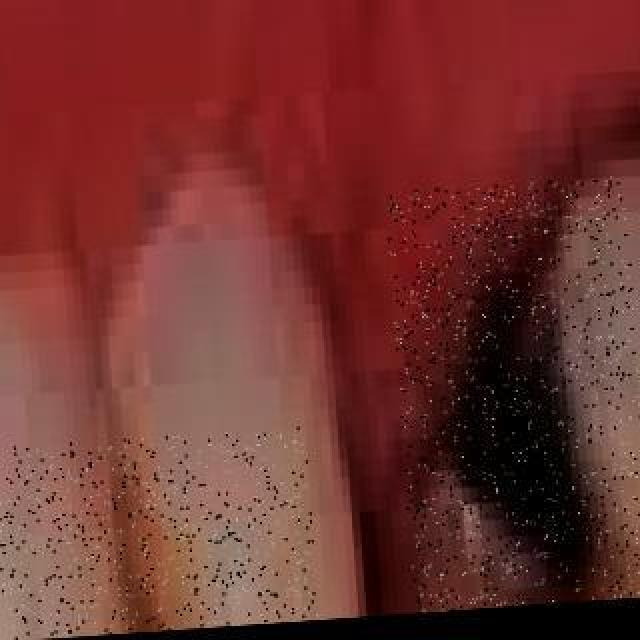cavities: (384, 174, 640, 612)
